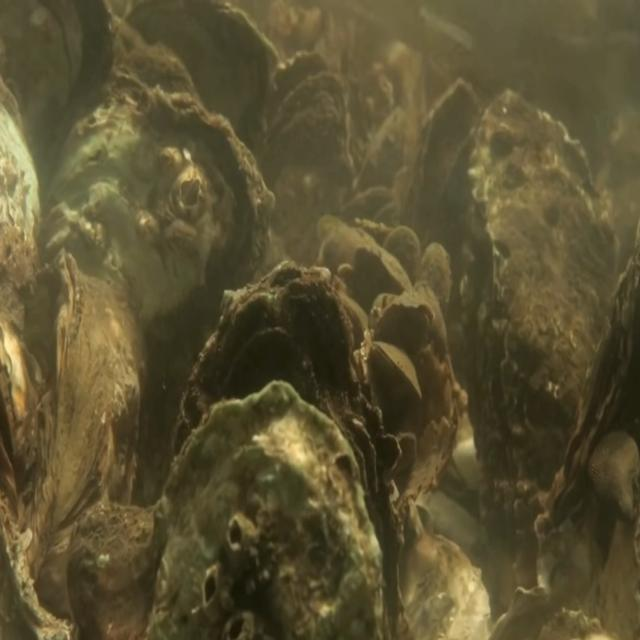Oyster-Closed: (45, 83, 274, 497), (171, 257, 402, 640), (456, 87, 614, 530), (145, 377, 384, 640), (532, 210, 640, 591), (368, 337, 422, 401), (377, 298, 435, 346)
Oyster-Indeterminate: (27, 244, 142, 640), (402, 76, 483, 306), (354, 240, 414, 294), (382, 224, 422, 295), (418, 241, 452, 316)
Oyster-Open: (254, 48, 351, 260)
